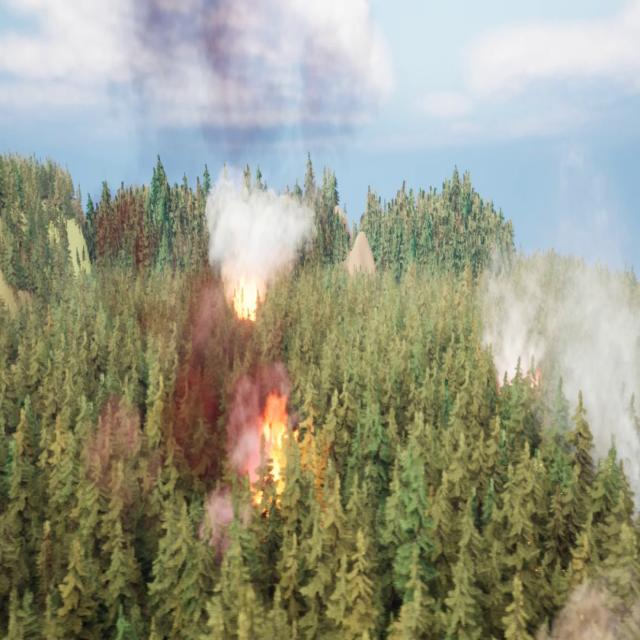fire: (240, 390, 304, 498), (228, 272, 265, 320)
smoke: (164, 170, 323, 534), (476, 225, 640, 507), (119, 0, 368, 169)
